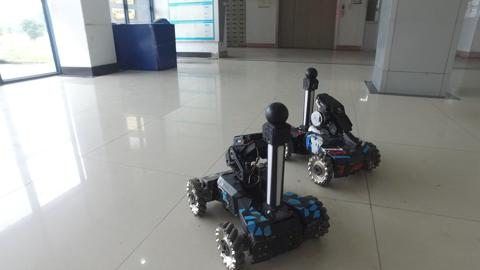chariot: (180, 96, 334, 270), (274, 64, 387, 192)
